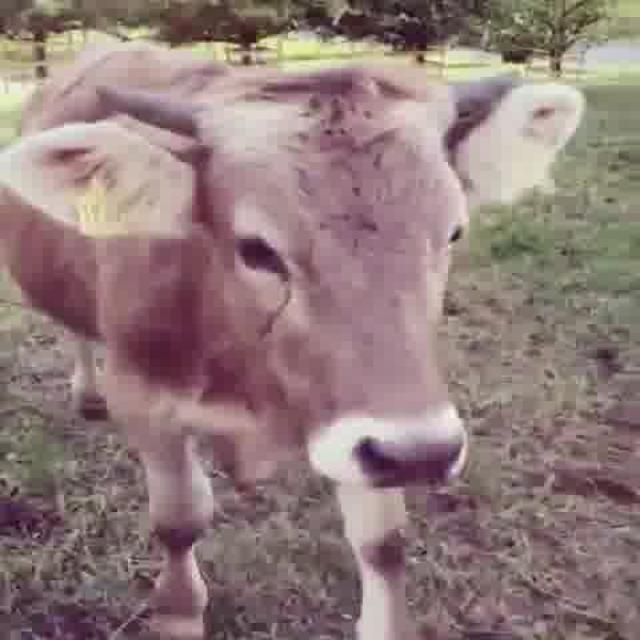cowFace: (12, 66, 601, 495)
